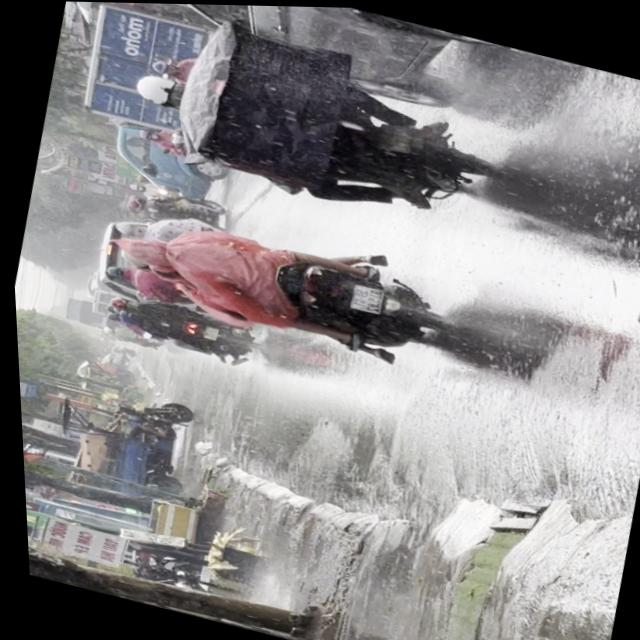helmet: (110, 228, 175, 269), (129, 67, 184, 108), (108, 214, 146, 240)
licenseplate: (109, 15, 530, 245), (85, 185, 468, 378)
nohelmet: (344, 280, 380, 310), (377, 123, 410, 151)
